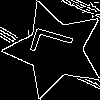L: (30, 25, 84, 65)
